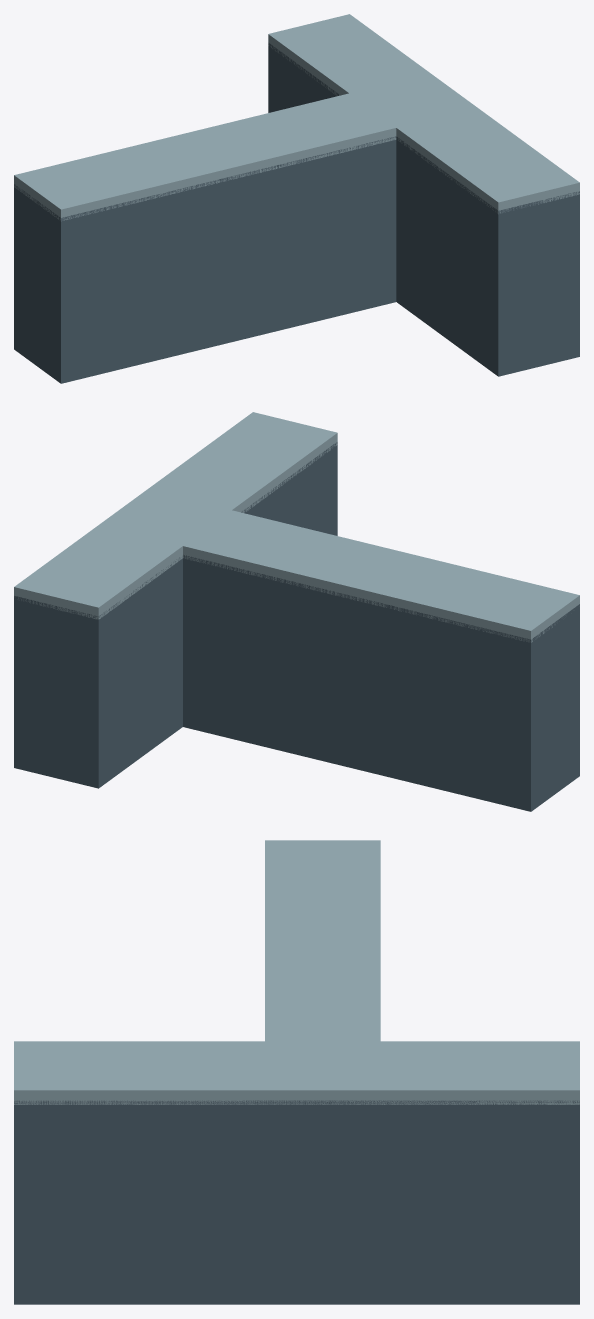
Rendered from wall_low_corner.glb.
The picture shows the model from 3 angles, top to bottom: view 1: azimuth 30°, elevation 25°; view 2: azimuth 150°, elevation 25°; view 3: azimuth 270°, elevation 25°; orthographic projection. The views are drawn at different scales.
Visible parts, largest first — view 1: WestEast, NorthSouth, WestEastCap, NorthSouthCap; view 2: WestEast, NorthSouth, WestEastCap, NorthSouthCap; view 3: NorthSouth, NorthSouthCap, WestEastCap.
Boxes of the visible parts, bbox=[...] form: WestEast: bbox=[14, 136, 396, 383]; NorthSouth: bbox=[268, 42, 579, 376]; WestEastCap: bbox=[14, 78, 459, 221]; NorthSouthCap: bbox=[268, 14, 579, 214]; WestEast: bbox=[183, 555, 579, 811]; NorthSouth: bbox=[14, 442, 337, 788]; WestEastCap: bbox=[117, 494, 579, 642]; NorthSouthCap: bbox=[14, 412, 337, 619]; NorthSouth: bbox=[14, 1100, 579, 1304]; NorthSouthCap: bbox=[14, 1041, 579, 1104]; WestEastCap: bbox=[265, 840, 380, 1078].
Size of the model in its own units: 1.84 by 0.735 by 1.76.
